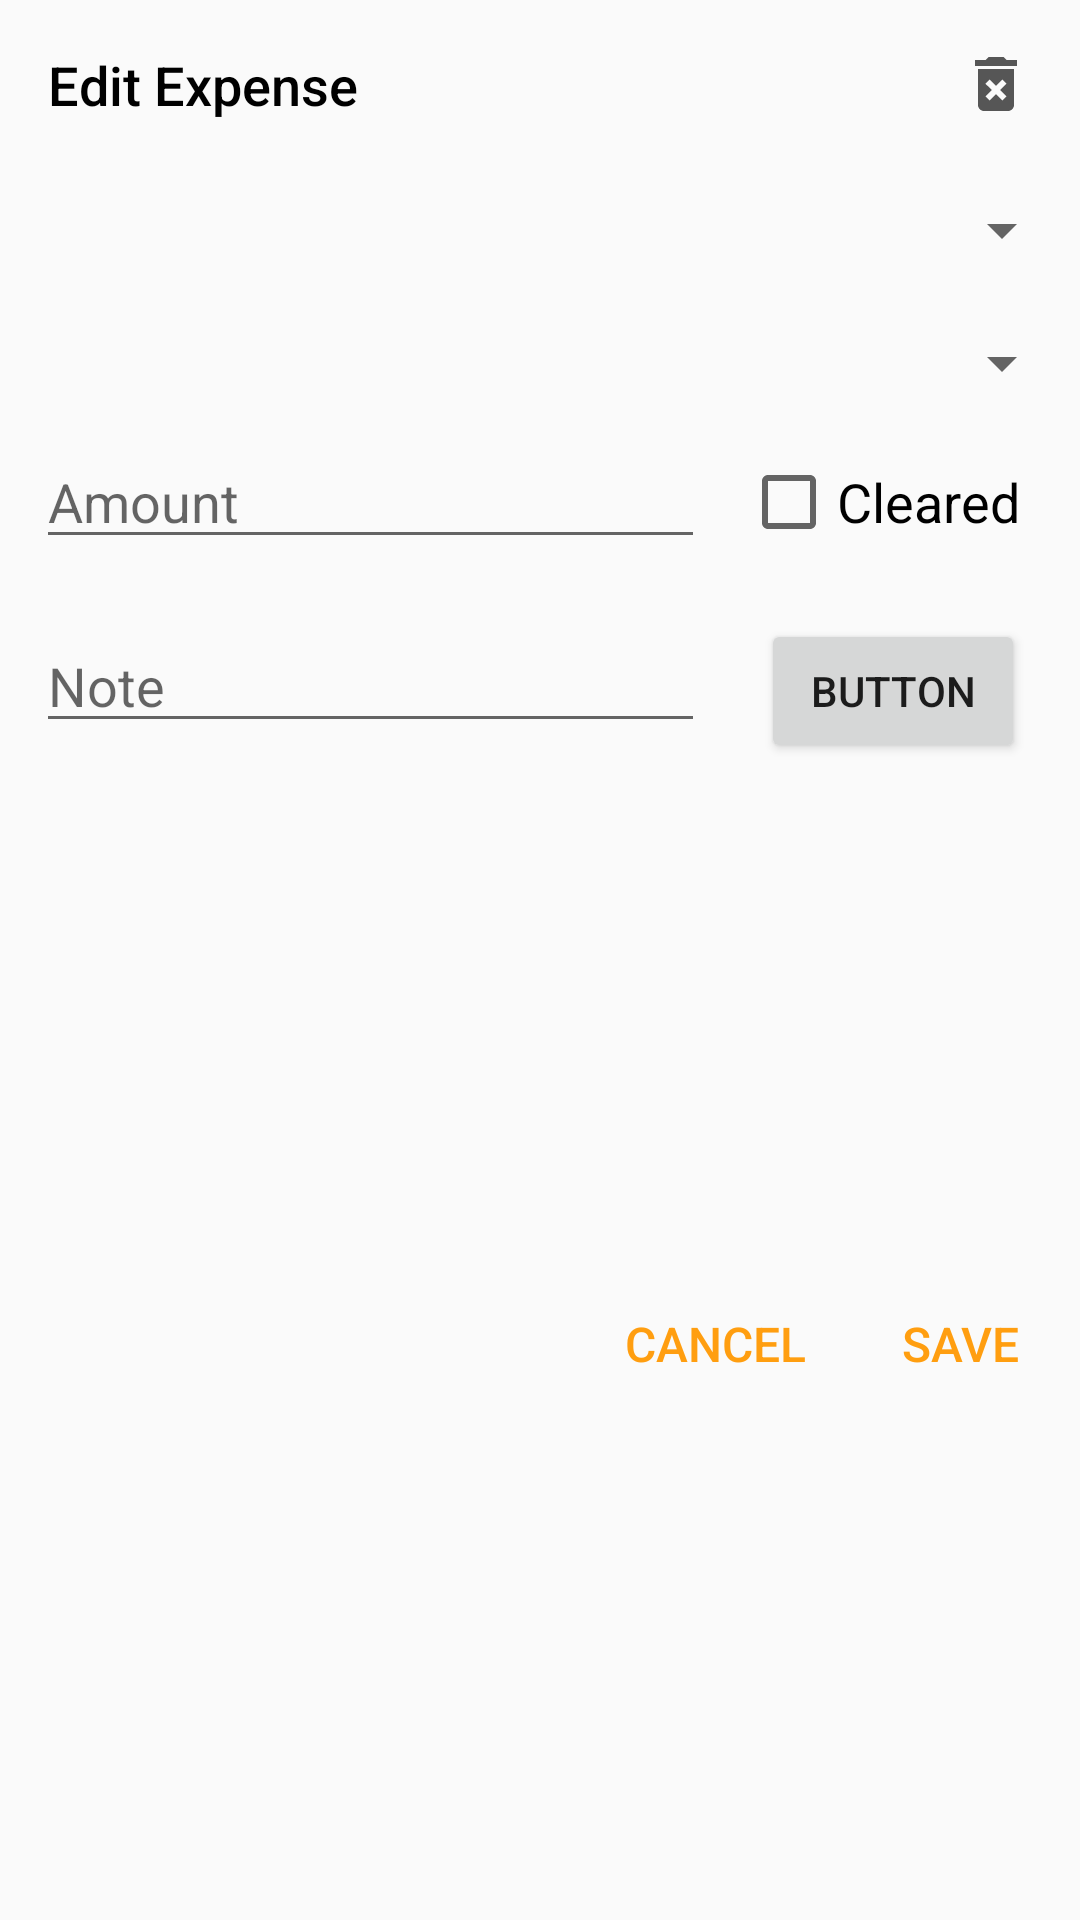

Where to tap for icons on this 1080 x 1920 app screen, as point (x, y):
Delete expense: point (996, 84)
